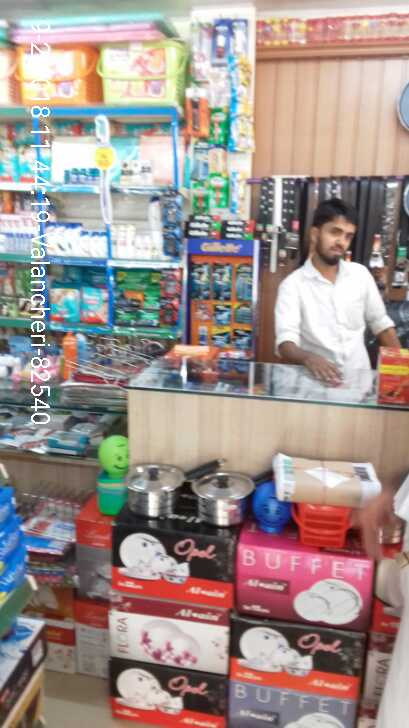gillete: (230, 102, 256, 150), (183, 89, 209, 135), (232, 62, 256, 102), (184, 144, 208, 183), (234, 266, 253, 303), (190, 264, 207, 302), (229, 166, 244, 208), (211, 265, 228, 299), (208, 144, 225, 176), (214, 304, 234, 323), (209, 328, 229, 347), (234, 304, 253, 323), (185, 229, 219, 239), (186, 220, 219, 229), (233, 330, 250, 346), (224, 225, 254, 234), (189, 212, 220, 220), (193, 307, 210, 320), (224, 219, 255, 225), (223, 234, 254, 240), (198, 328, 209, 344)
